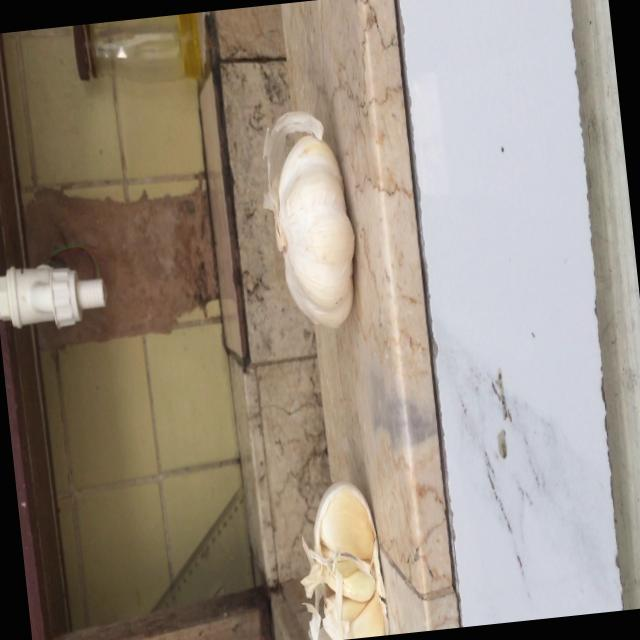garlic: (252, 103, 365, 334), (289, 469, 394, 640)
